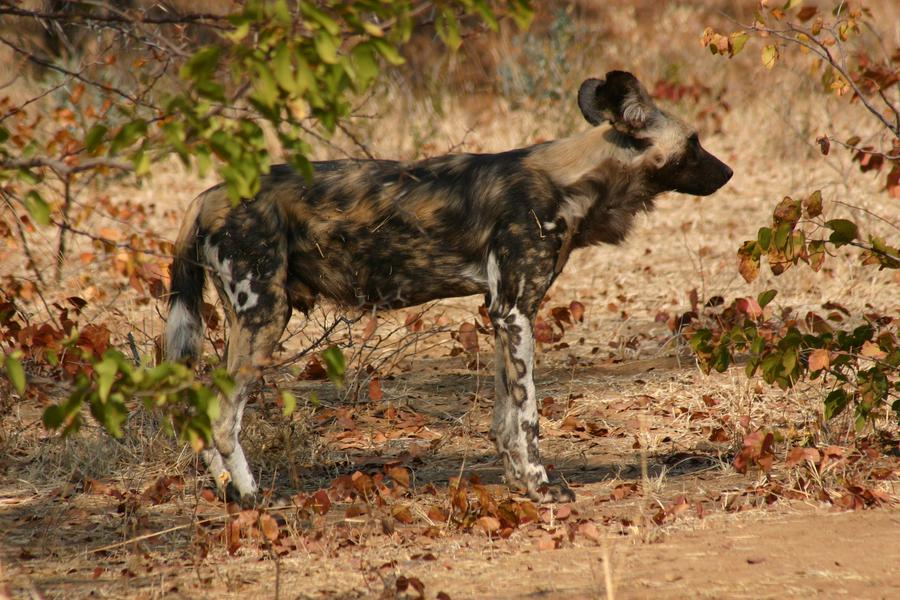wilddog: (184, 87, 714, 478)
